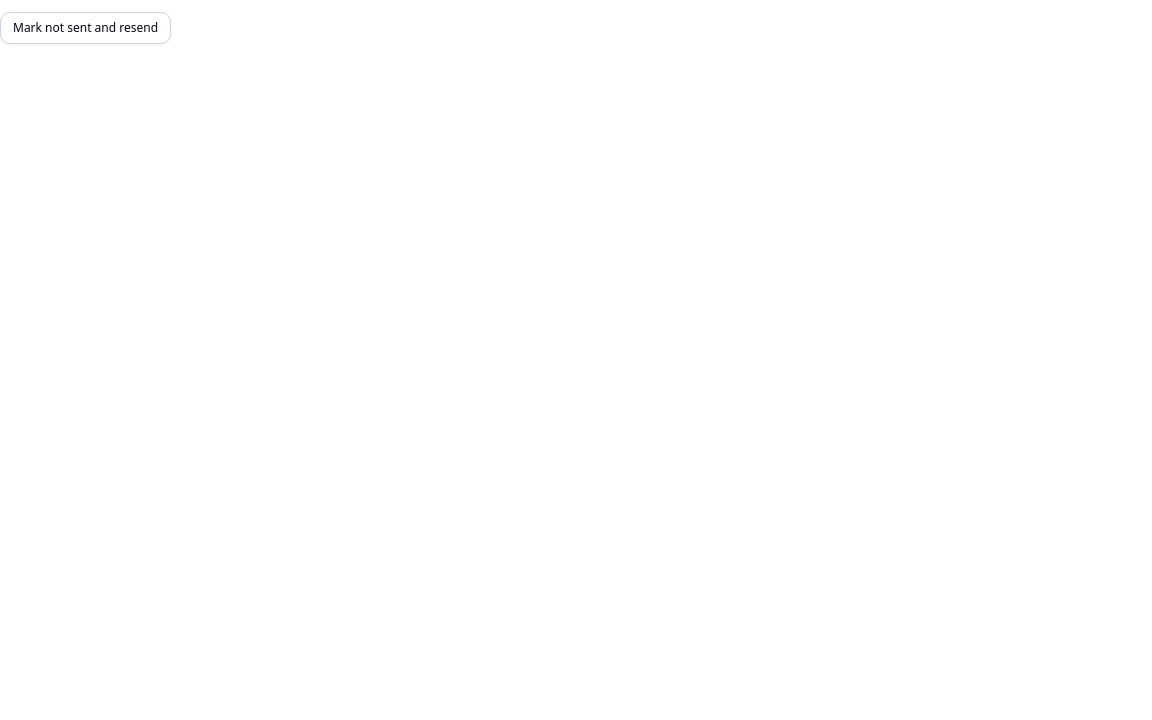
Test case: VerificationResendAction › confirms, resends with the audit reason, then refreshes on close
Later steps or results of the test are not shown.
Click the button "Mark not sent and resend" at (86, 28), box [0,12,171,44]
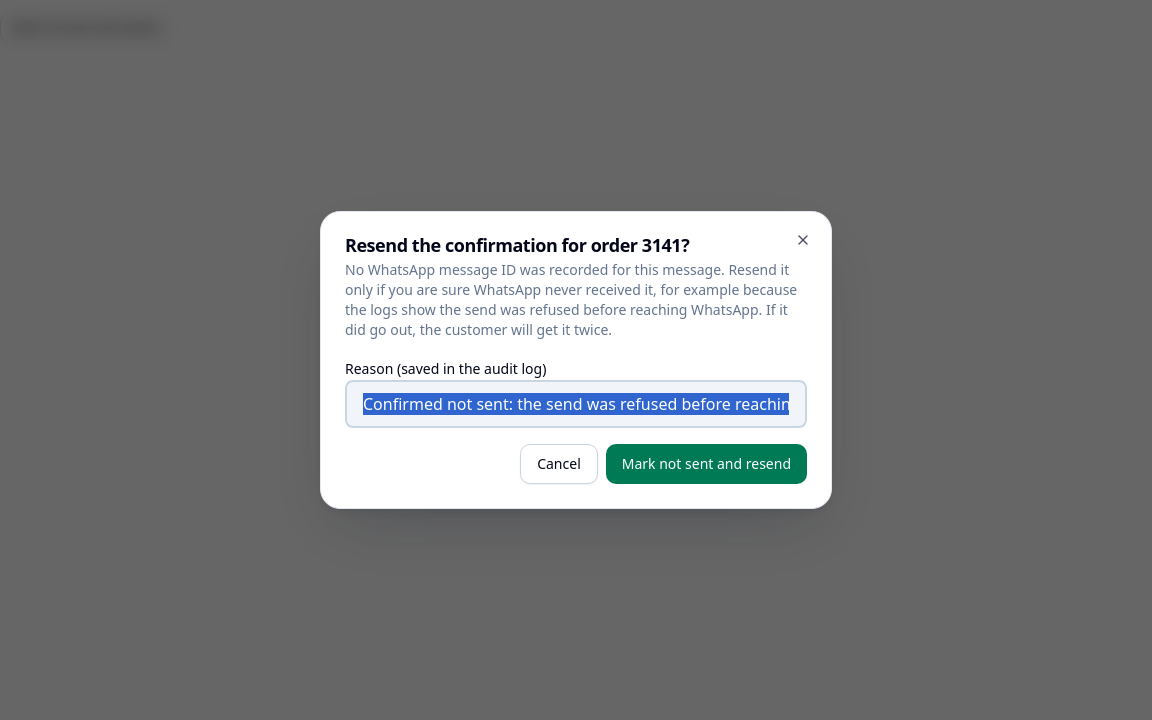
Expected: the text "the customer will get it twice" is shown, [345,260,797,339]
Replace the text in the field labelled "Reason (saved in the audit log)" with "  Refused locally before the provider call  " at (576, 404), box [345,380,807,428]
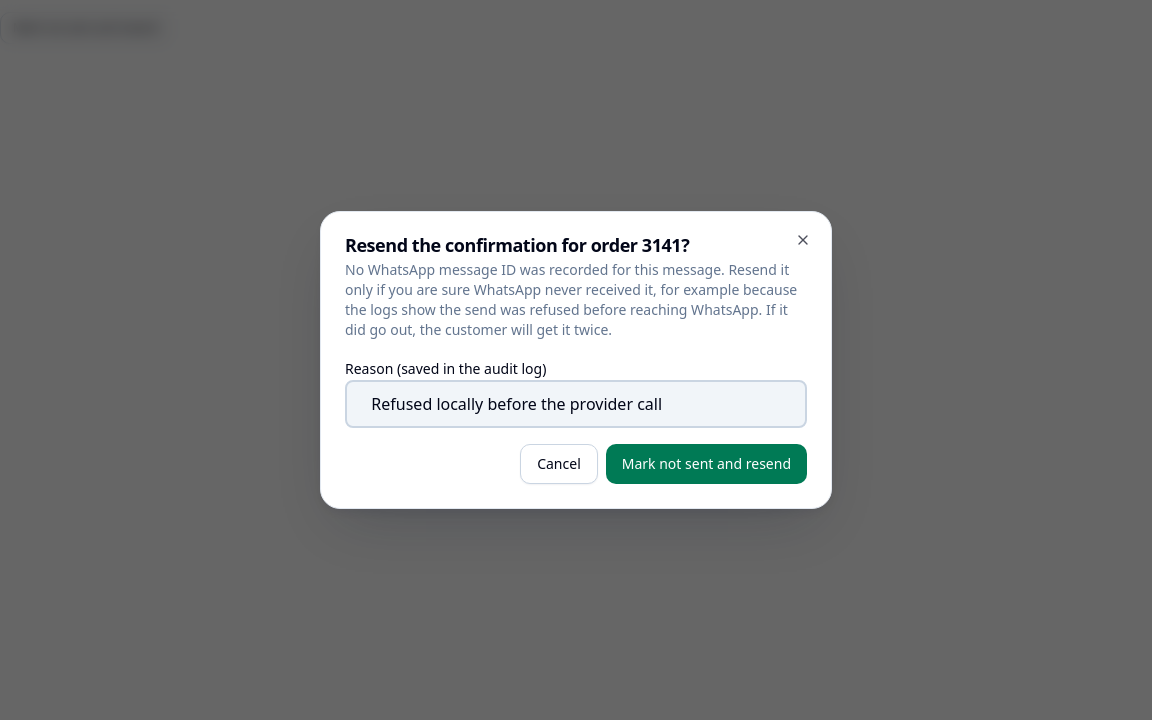
Click the button "Mark not sent and resend" at (706, 464), box [606,444,807,484]
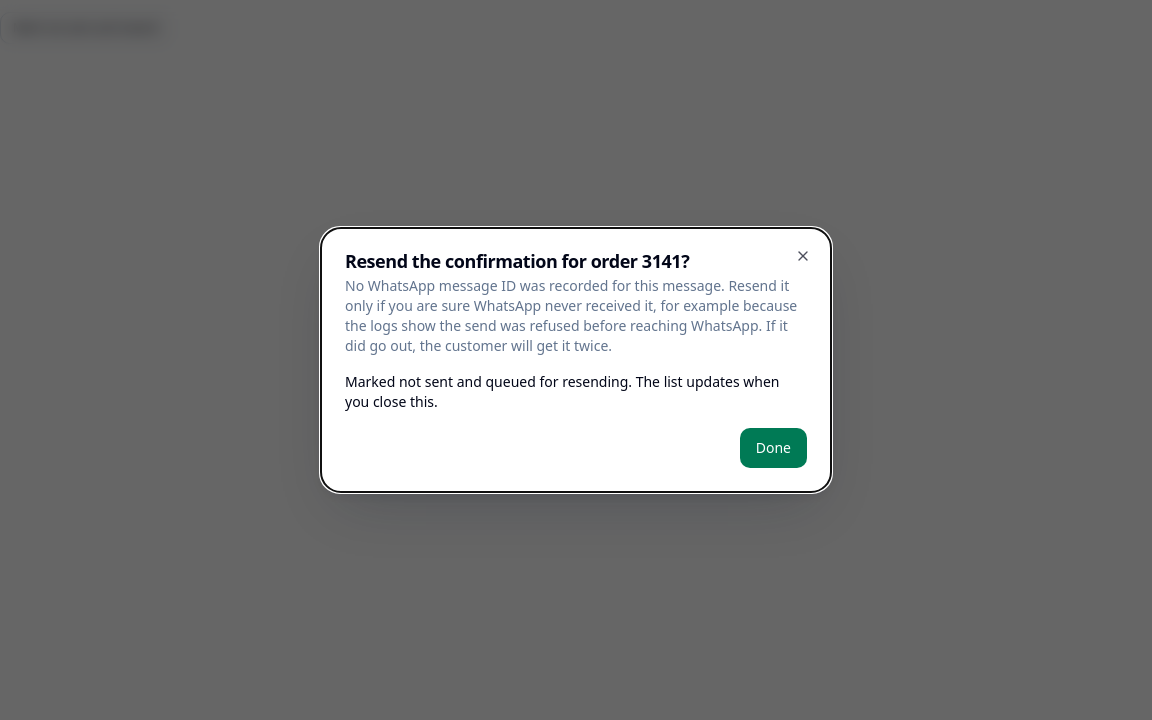
Expected: the text "queued for resending" is shown, [345,372,780,411]
